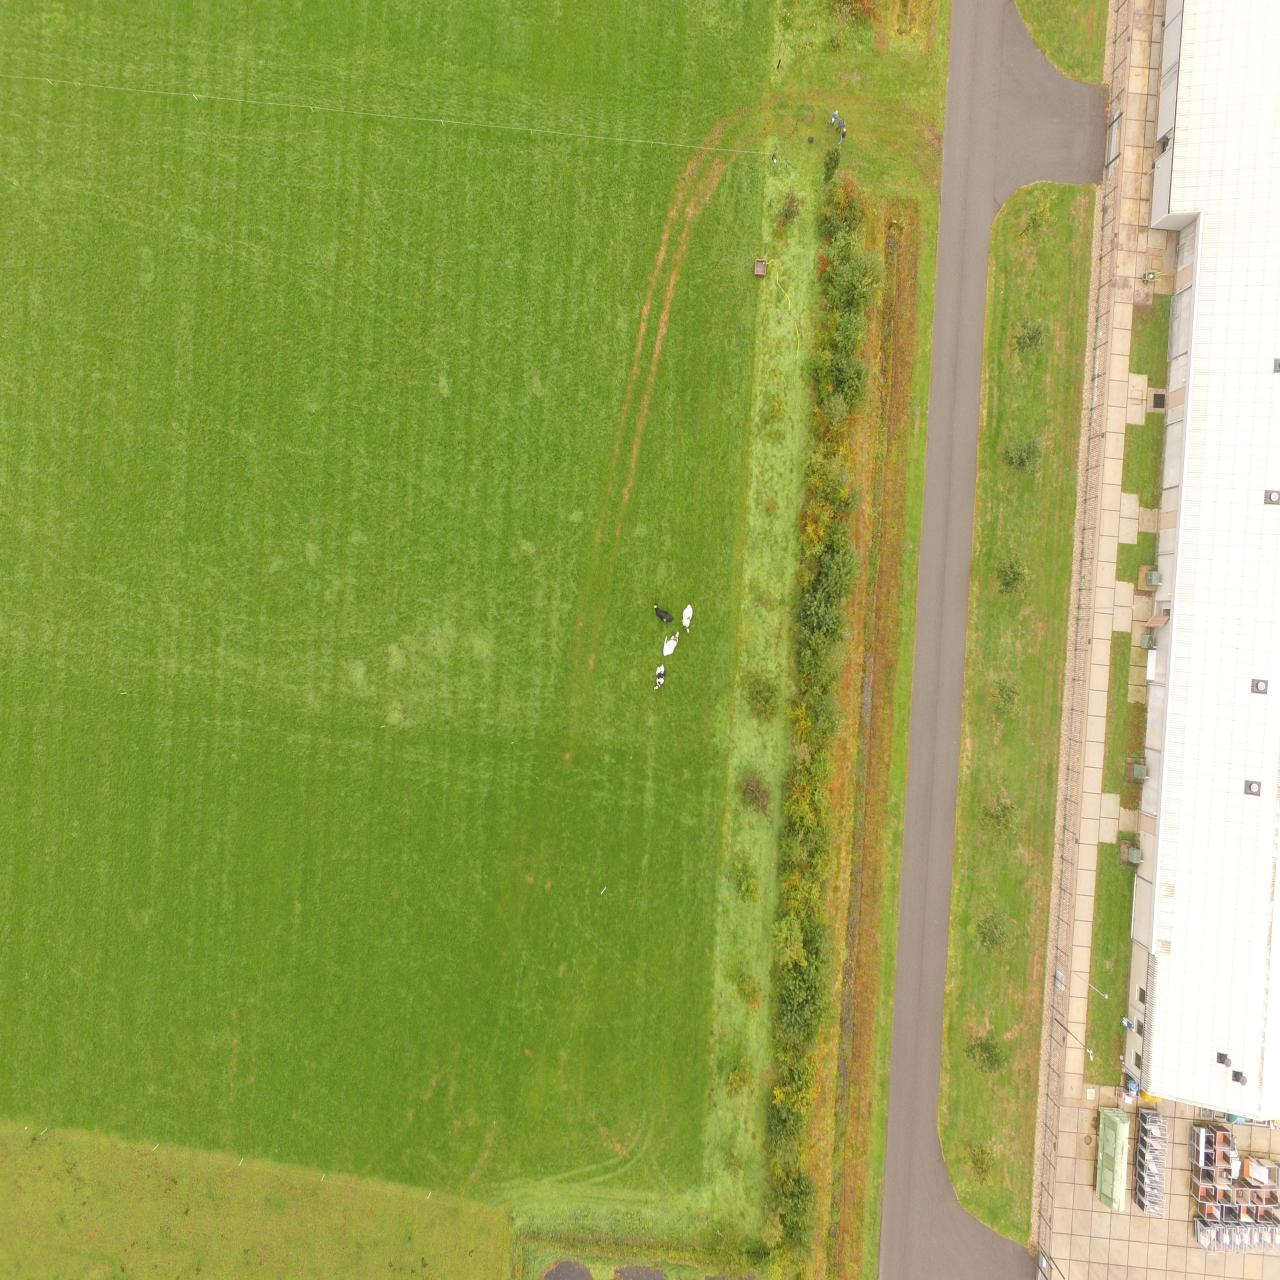cow: (654, 601, 674, 622), (662, 632, 679, 655), (654, 663, 666, 689), (682, 602, 692, 632)
